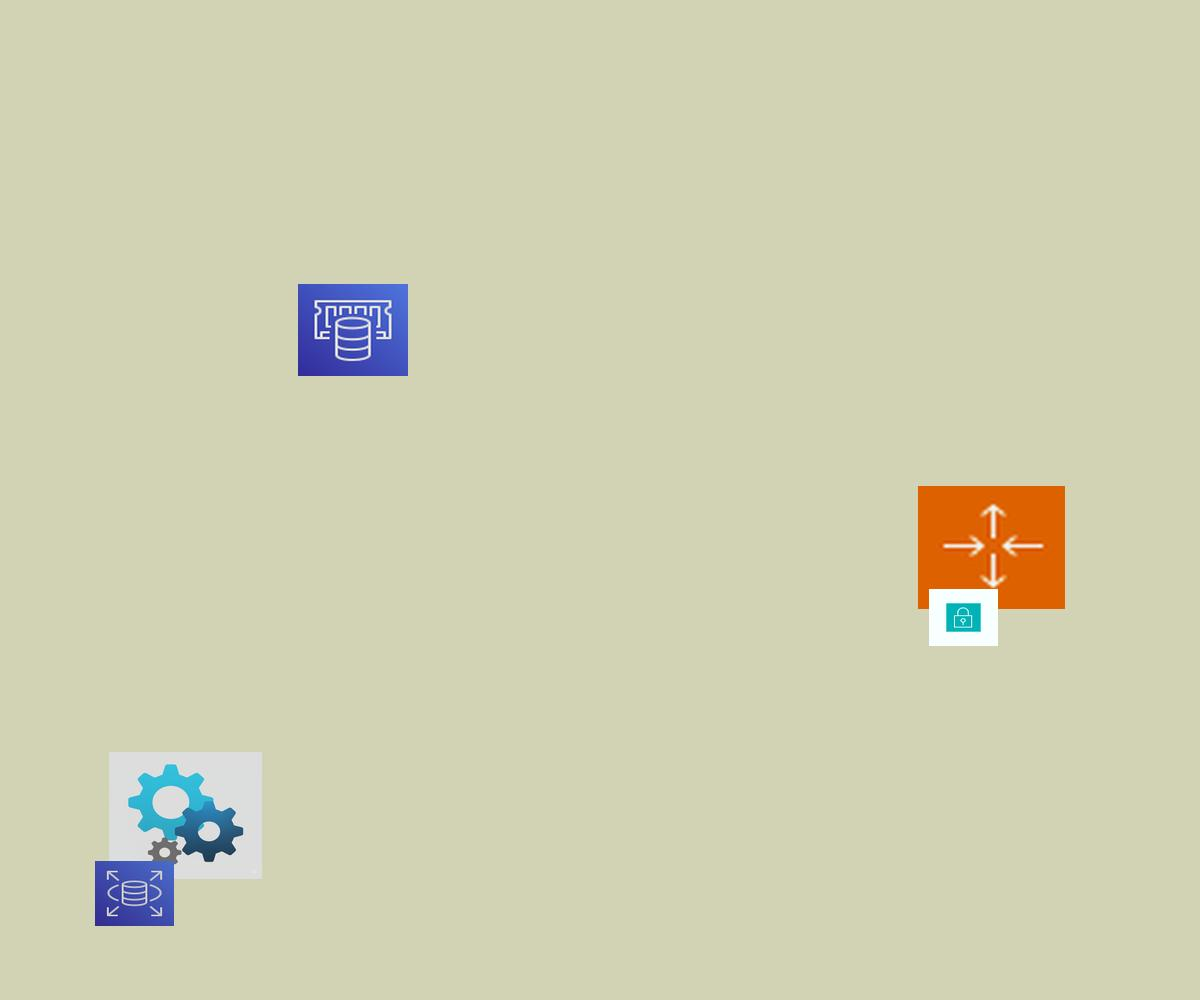AWS-ElastiCache: (298, 284, 408, 376)
AWS-Private-subnet: (929, 589, 998, 646)
AWS-RDS: (95, 861, 174, 926)
AWS-Scaling-group: (918, 486, 1065, 609)
Azure_api: (109, 752, 262, 879)
